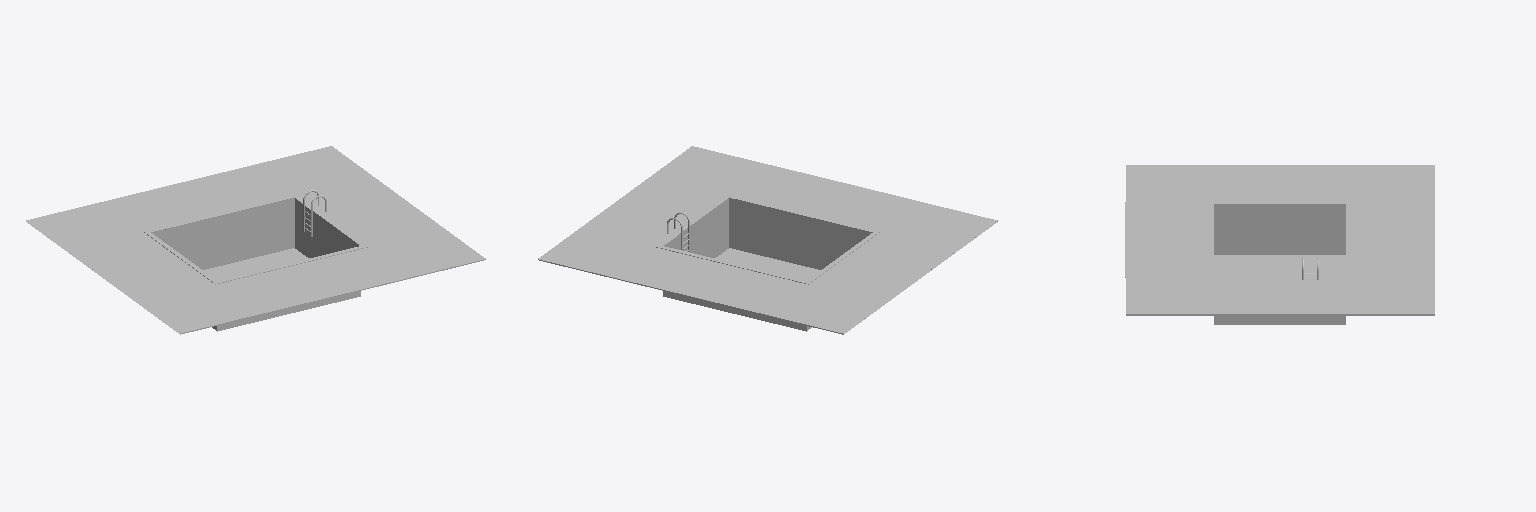
Rendered from pool.obj.
3 views of the same model, side by side, from view 1: azimuth 30°, elevation 25°; view 2: azimuth 150°, elevation 25°; view 3: azimuth 270°, elevation 25° (orthographic).
Visible parts, largest first — view 1: Plane_Plane.001, Pool_Plane; view 2: Plane_Plane.001, Pool_Plane; view 3: Plane_Plane.001, Pool_Plane.
Boxes of the visible parts, <box> form: Plane_Plane.001: <box>26,146,485,334</box>; Pool_Plane: <box>144,194,367,331</box>; Plane_Plane.001: <box>538,146,997,334</box>; Pool_Plane: <box>656,194,879,331</box>; Plane_Plane.001: <box>1125,165,1434,315</box>; Pool_Plane: <box>1208,202,1351,324</box>.
Bounding box in the file's own units: 128 × 27.05 × 112.